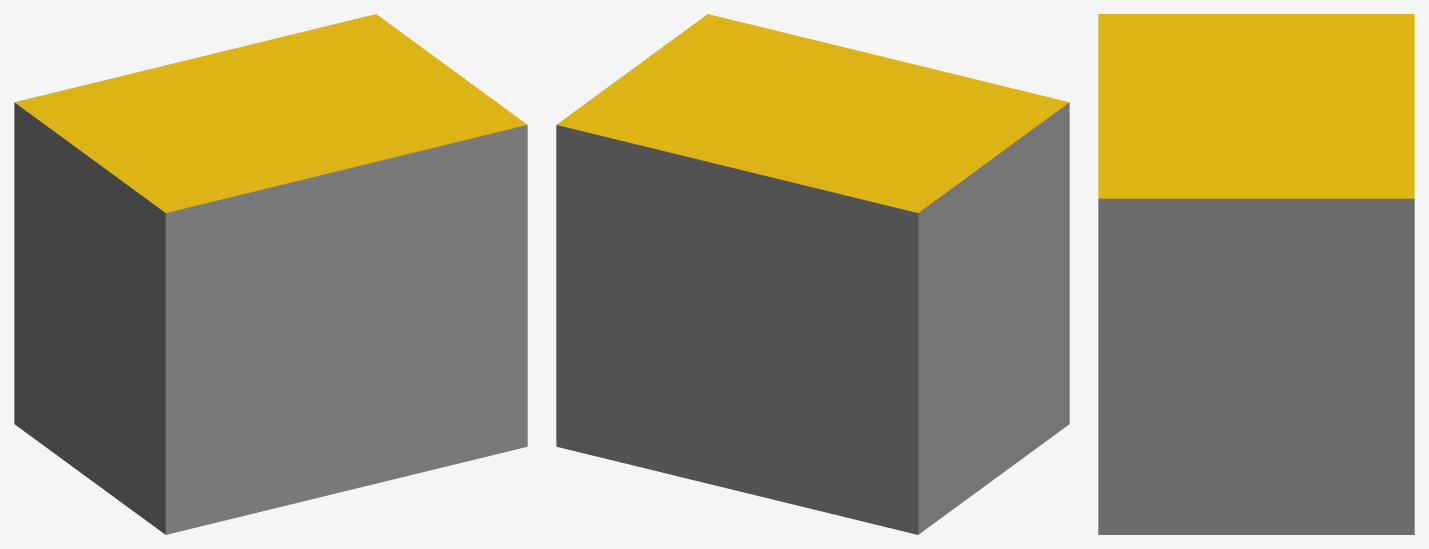
Rendered from not_interesting+rock_settings.fbx.
3 views of the same model, side by side, from view 1: azimuth 30°, elevation 25°; view 2: azimuth 150°, elevation 25°; view 3: azimuth 270°, elevation 25° (orthographic). The views are drawn at different scales.
Visible parts, largest first — view 1: Cube, Yellow Face; view 2: Cube, Yellow Face; view 3: Cube, Yellow Face.
Part boxes in pixels (<box>): Cube: <box>14,102,527,534</box>; Yellow Face: <box>15,14,527,212</box>; Cube: <box>556,102,1069,534</box>; Yellow Face: <box>556,14,1068,212</box>; Cube: <box>1098,198,1414,534</box>; Yellow Face: <box>1098,14,1414,198</box>.
Size of the model in its own units: 0.4 by 0.34 by 0.29.
